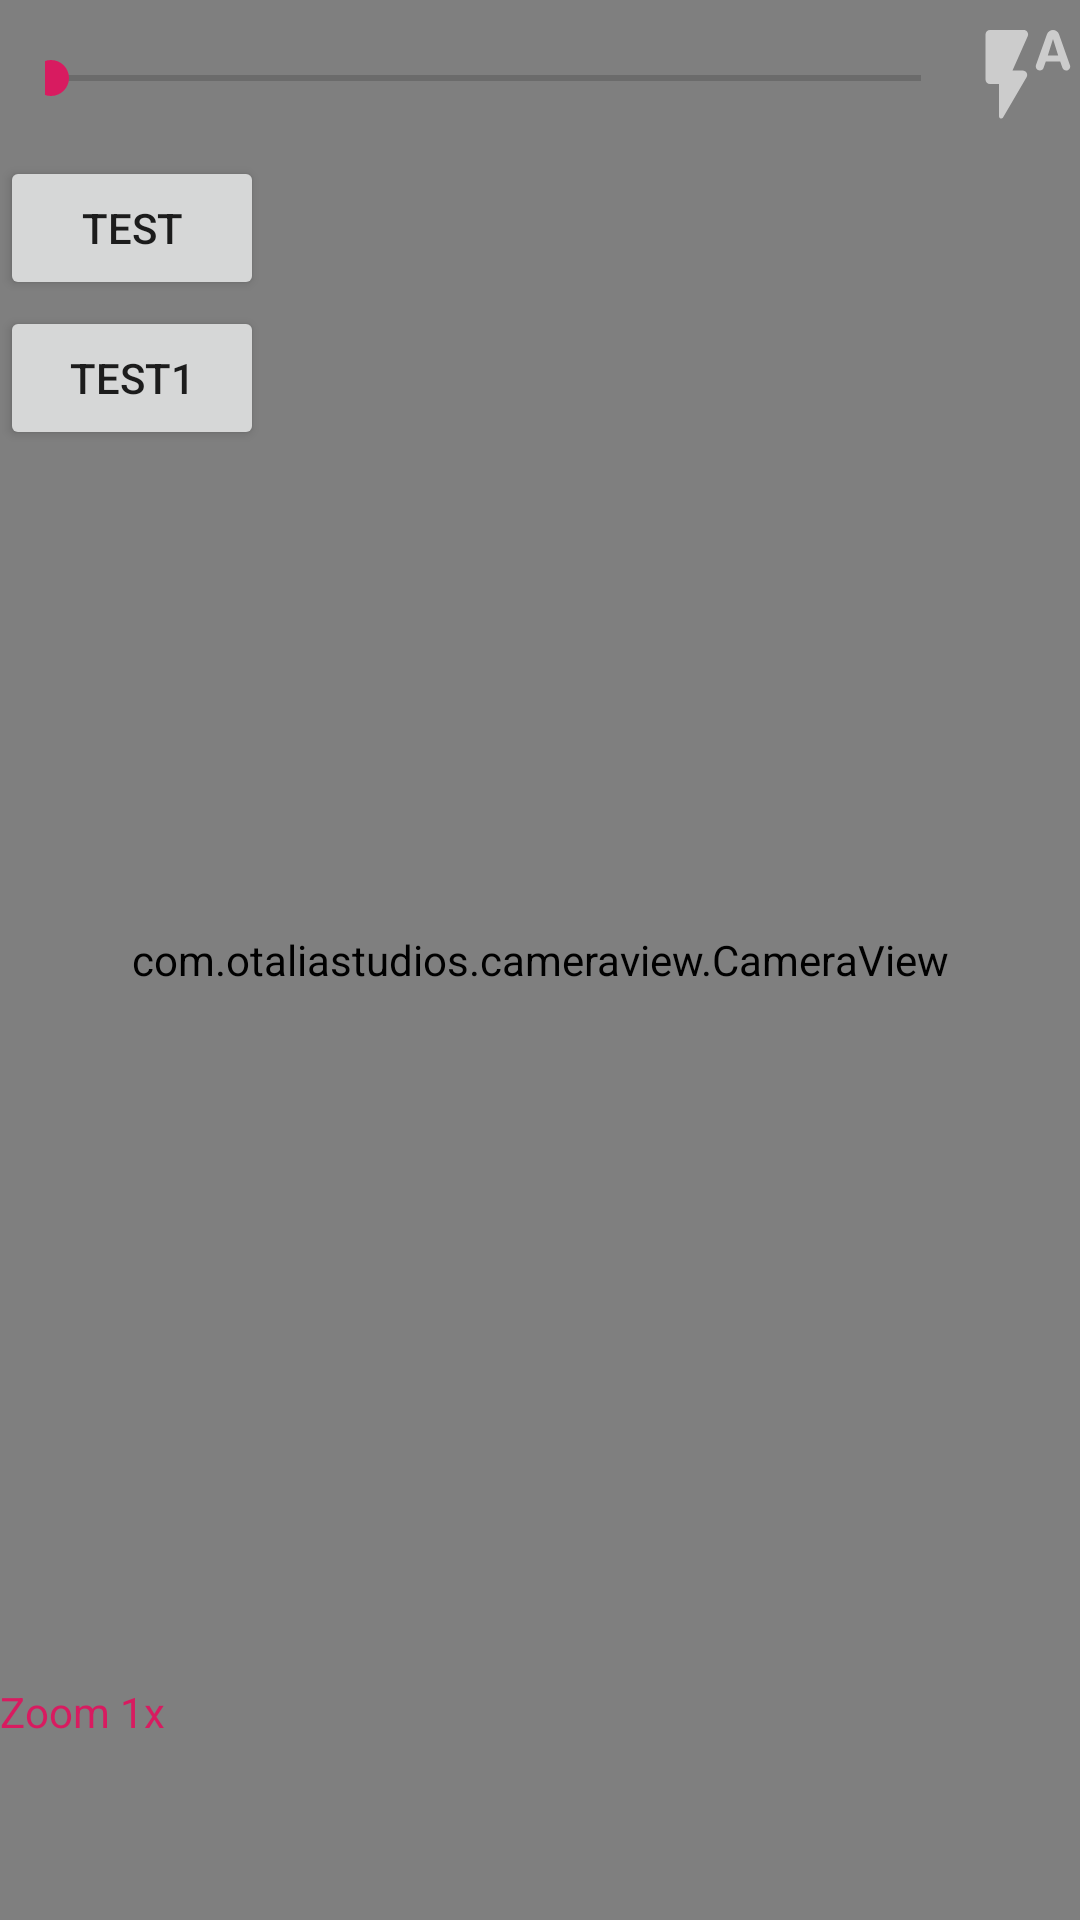

Point at icon controls on the screen. Image size 1080x1920, points as [x,y].
flash auto: [1027,74]
